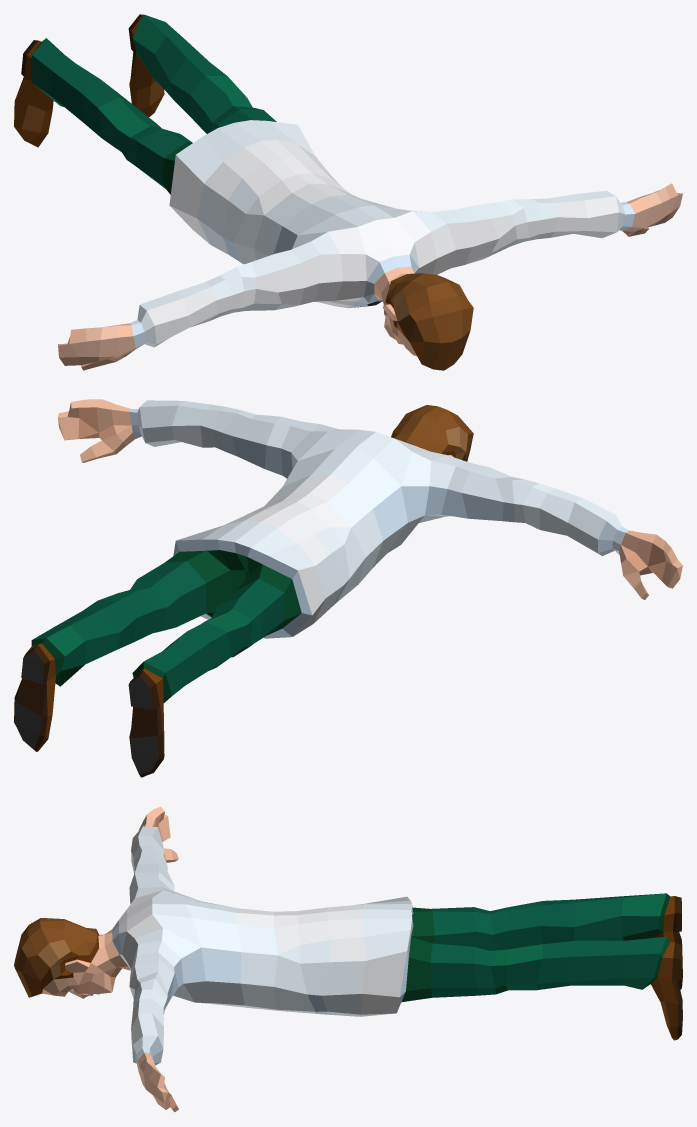
The model's file is doctor.fbx.
3 views of the same model, one above another, from view 1: azimuth 30°, elevation 25°; view 2: azimuth 150°, elevation 25°; view 3: azimuth 270°, elevation 25° (orthographic). The views are drawn at different scales.
Parts seen in each view (by area): view 1: lpMale_doctor_B; view 2: lpMale_doctor_B; view 3: lpMale_doctor_B.
Part boxes in pixels (left/top/right/bottom): lpMale_doctor_B: left=14, top=14, right=682, bottom=370; lpMale_doctor_B: left=14, top=399, right=682, bottom=777; lpMale_doctor_B: left=14, top=806, right=682, bottom=1112.
Bounding box in the file's own units: 192 × 36.26 × 195.
1 material, 1 textured.
